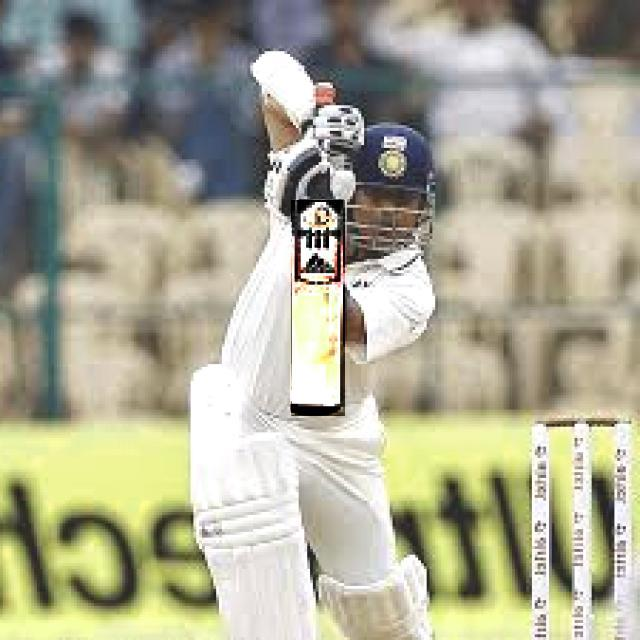bat: (290, 201, 344, 419)
toe: (290, 400, 343, 418)
